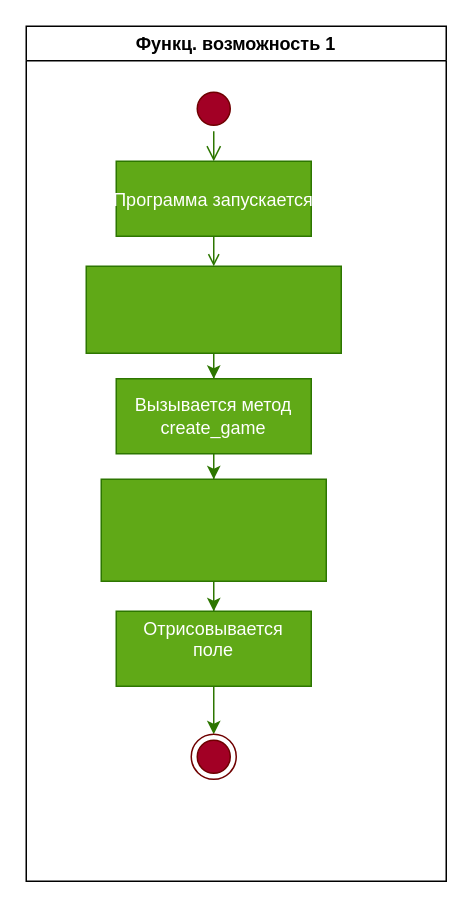
The diagram is 473 pixels wide and 908 high, and some of its shapes have lost their labels. The box of each missing label's shape, as (x1, y1, x2, y2) in pixels:
Вычисляются начальные и конечные точки для классов human и bot: (85, 265, 341, 353)
Создаются экземпляры классов board, human, bot: (100, 478, 326, 581)
